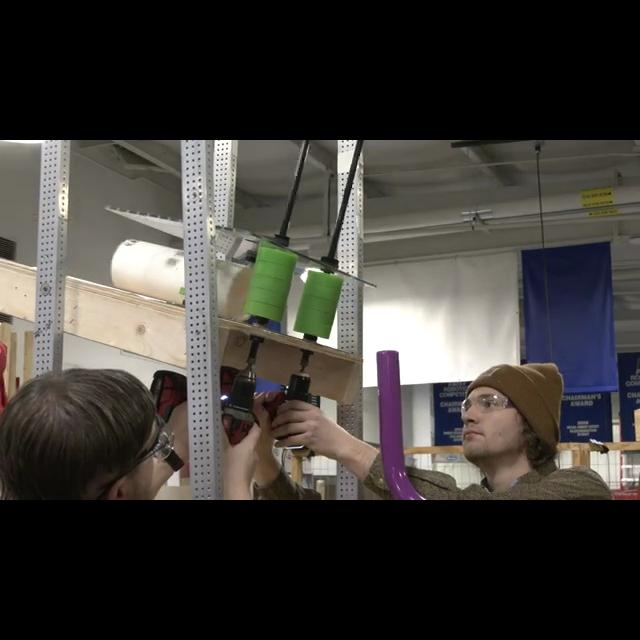CORAL: (112, 238, 250, 316)
